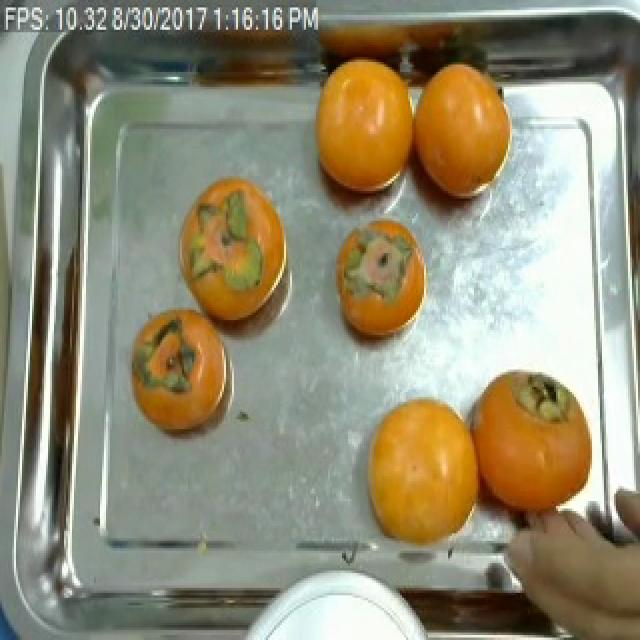Fruit: (348, 382, 496, 583), (458, 352, 598, 534), (396, 47, 522, 213), (304, 47, 424, 206), (172, 171, 290, 330), (130, 298, 234, 454), (326, 208, 434, 358), (376, 545, 544, 640)
